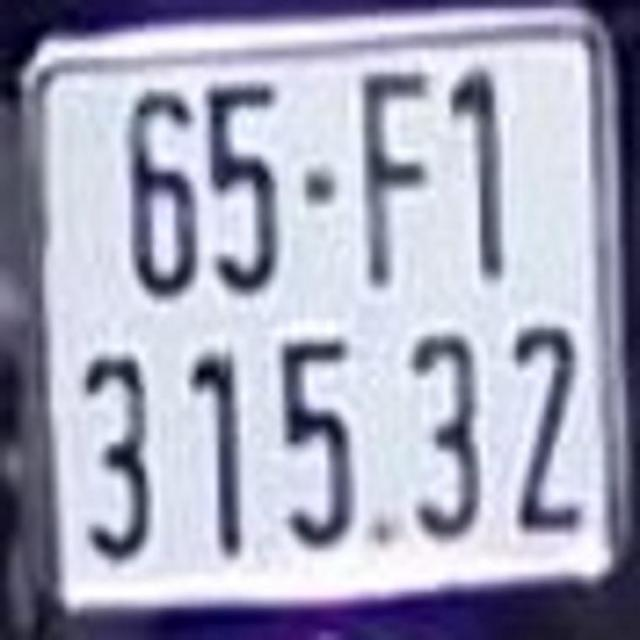1: (457, 72, 515, 276), (197, 340, 241, 556)
2: (512, 334, 580, 534)
3: (76, 340, 160, 562), (405, 330, 483, 537)
5: (280, 338, 359, 549), (209, 86, 279, 292)
6: (130, 88, 200, 295)
F: (358, 67, 430, 288)
